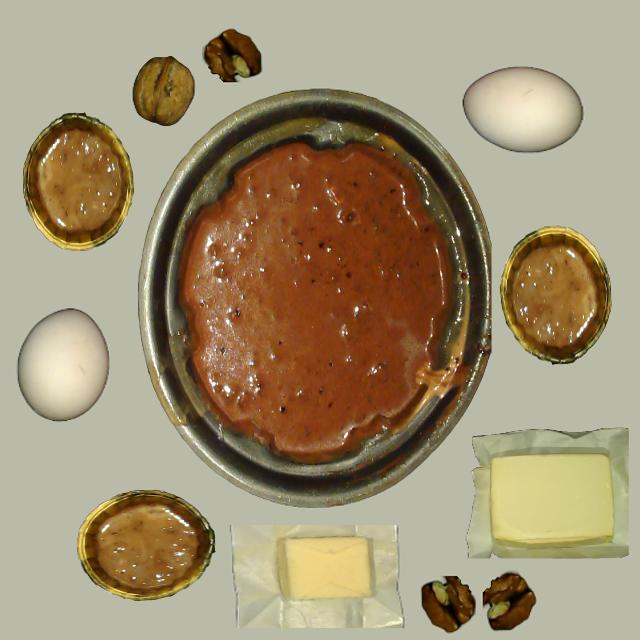Walnut: (132, 57, 195, 125)
